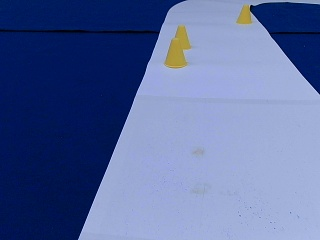cone: (164, 38, 187, 67), (174, 25, 191, 50), (236, 5, 251, 24)
